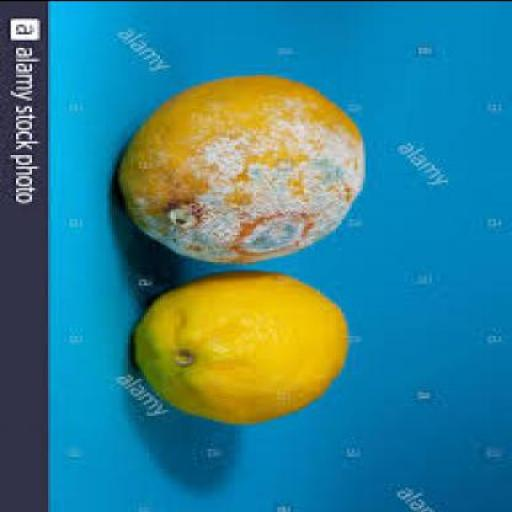biodegradable: (122, 71, 368, 261), (136, 266, 355, 420)
